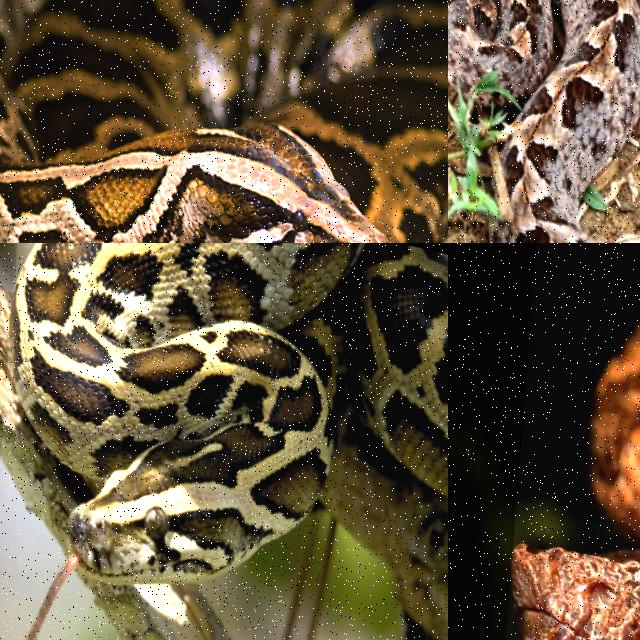Calloselasma rhodostoma: (448, 0, 639, 242)
Ovophis monticola: (591, 326, 639, 540)
Python bivittatus: (10, 243, 447, 639), (0, 0, 447, 242)
